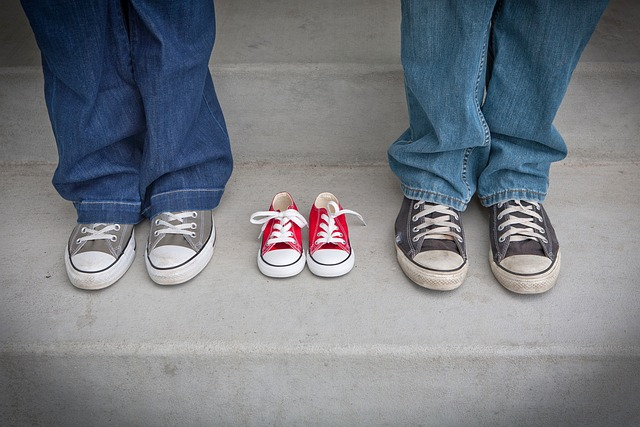Footwear: (388, 183, 597, 299), (56, 201, 229, 287), (256, 193, 362, 283)
